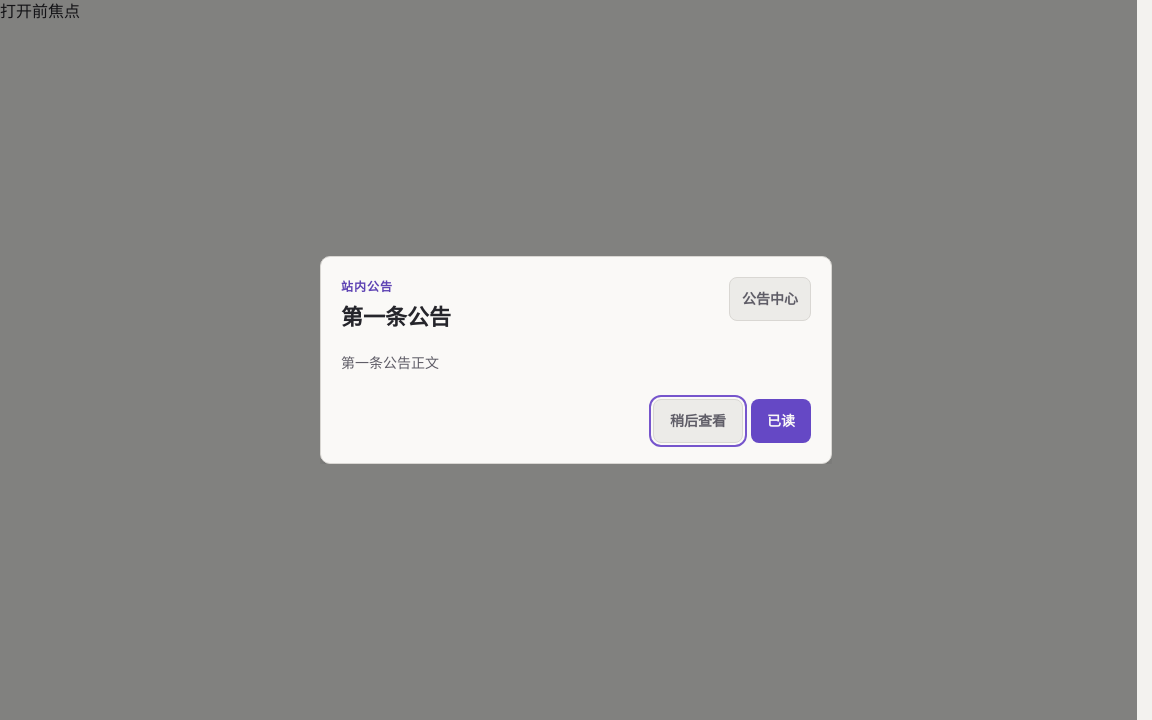
Test case: AnnouncementPopup accessibility › acknowledges only one reminder and keeps the other announcements unread across remounts
Click the button "已读".
click(781, 421)  # box [751, 399, 811, 443]
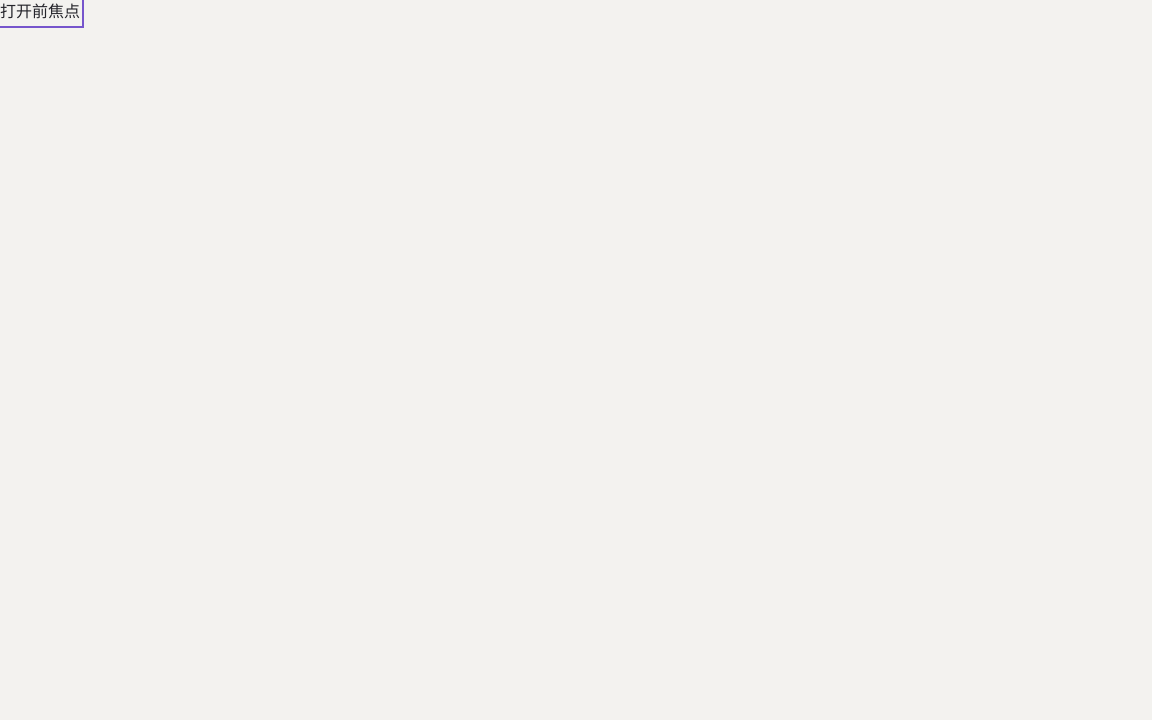
Expected: the dialog is gone
